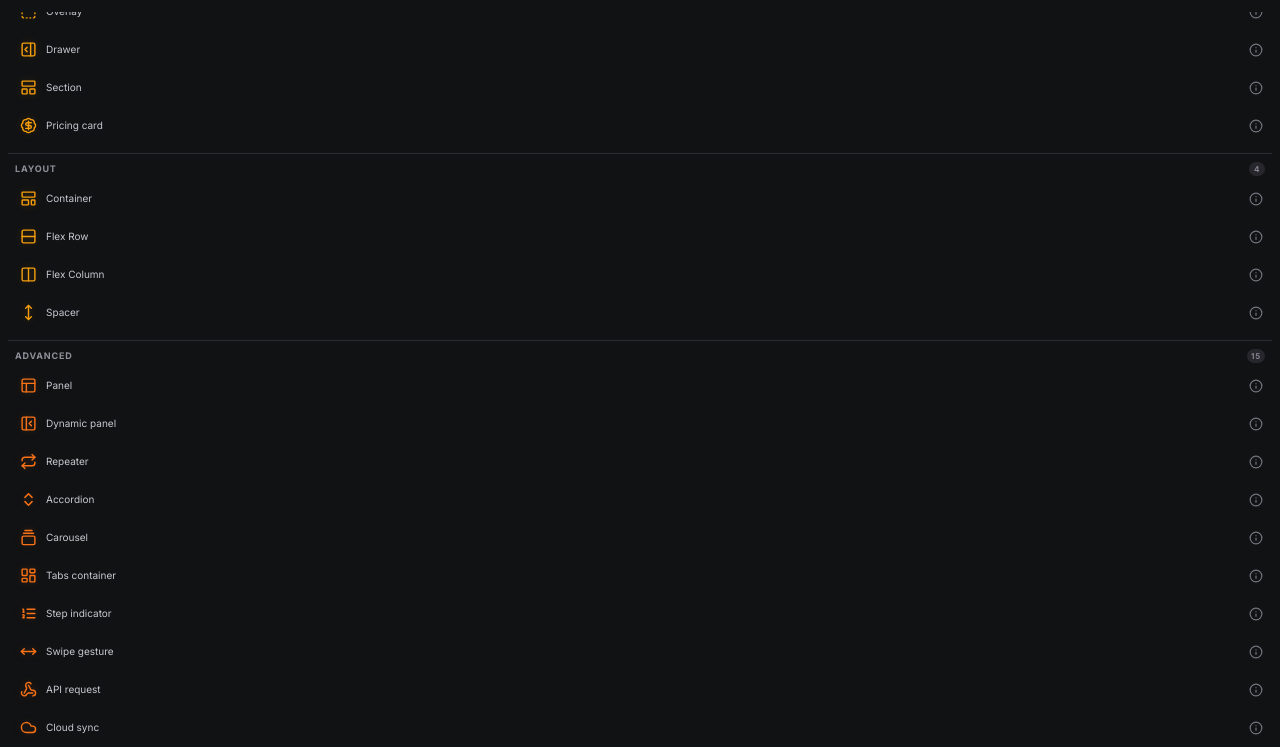
Test: ElementLibrary imported code shortcuts › explains expert elements in plain words in the tooltip, the info panel and the search (B64)
The image size is (1280, 747).
(page scrolled)
Step 1. Click the button named "Show Repeater code tips" → (1256, 462), box [1243,449,1268,474]
(page scrolled)
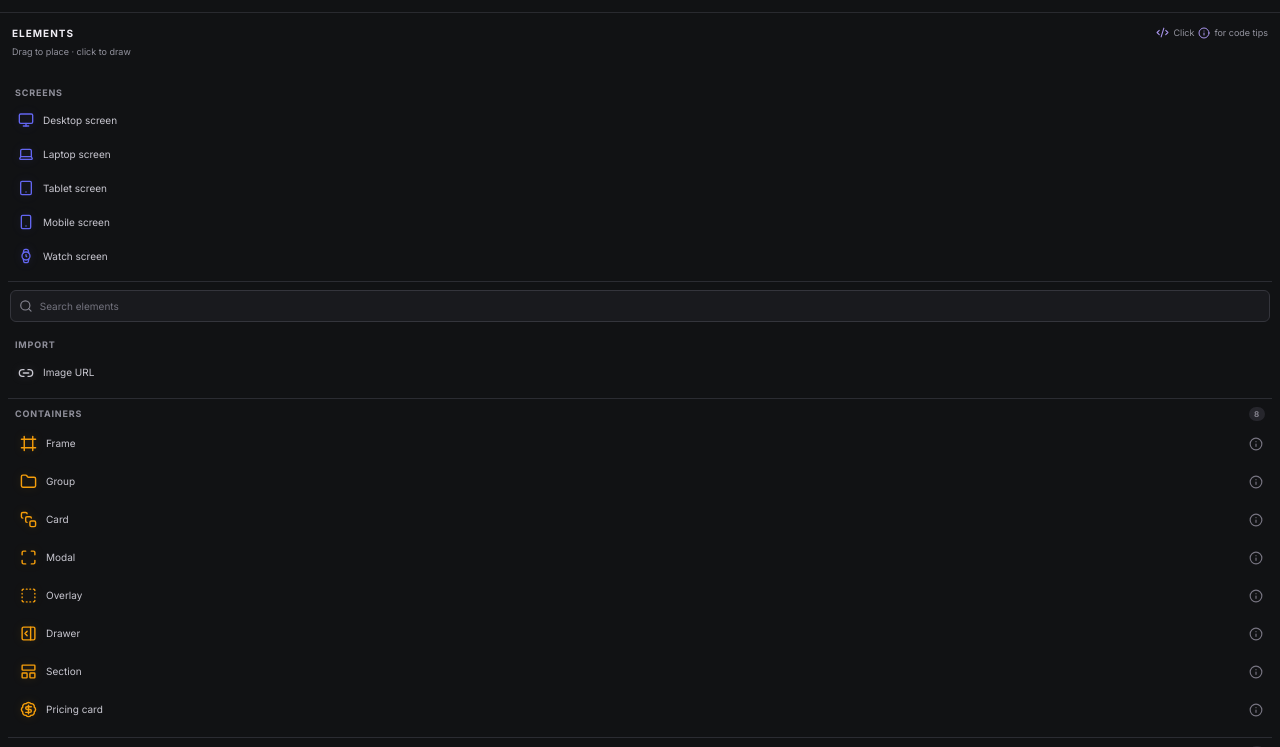
The search also understands the plain words, so "repeats" finds the Repeater.
Step 2. Type "repeats" into the search field labelled "Search elements" → (650, 306), box [40,298,1261,314]
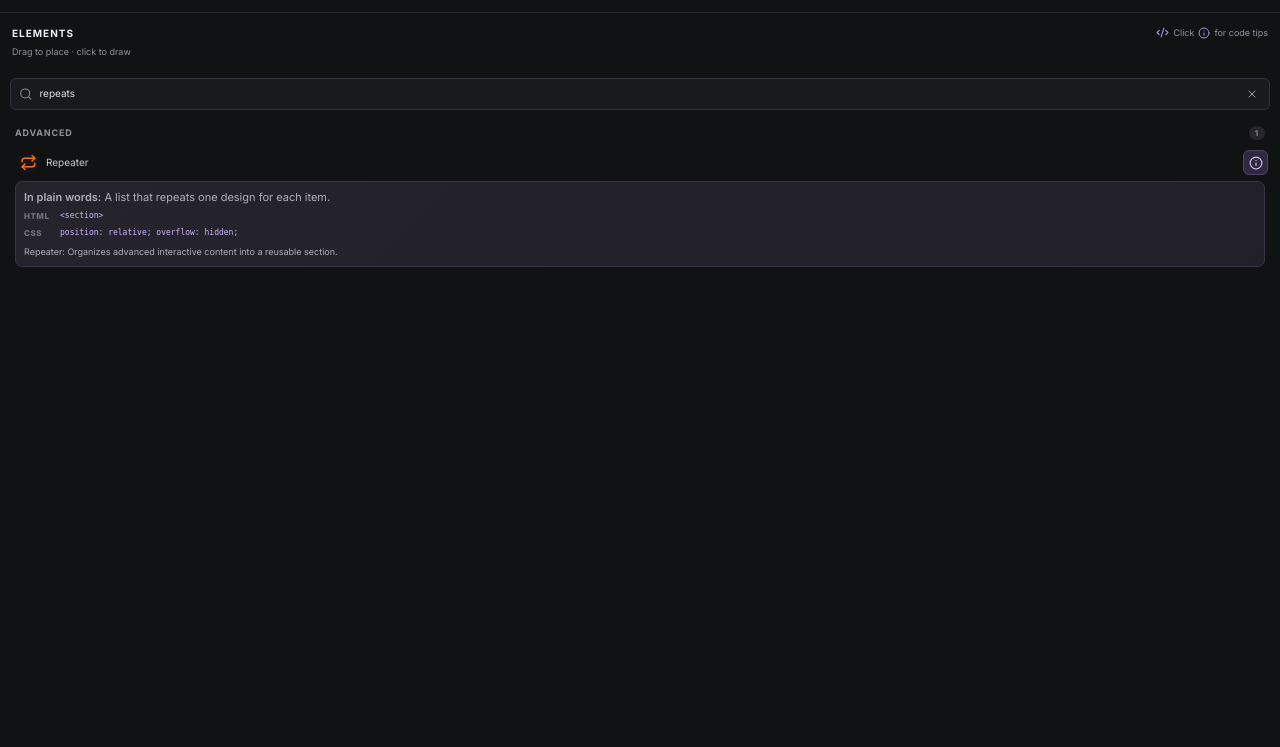
Check: the button with aria-label "Add Repeater" is shown, box [12,146,1241,178]
